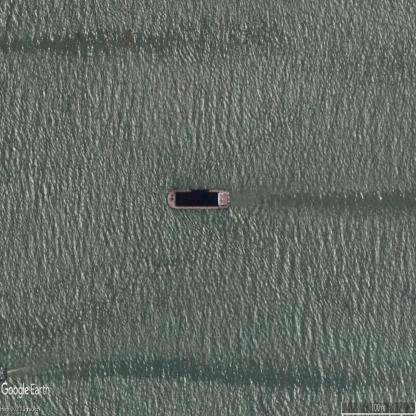ship: (167, 188, 232, 210)
